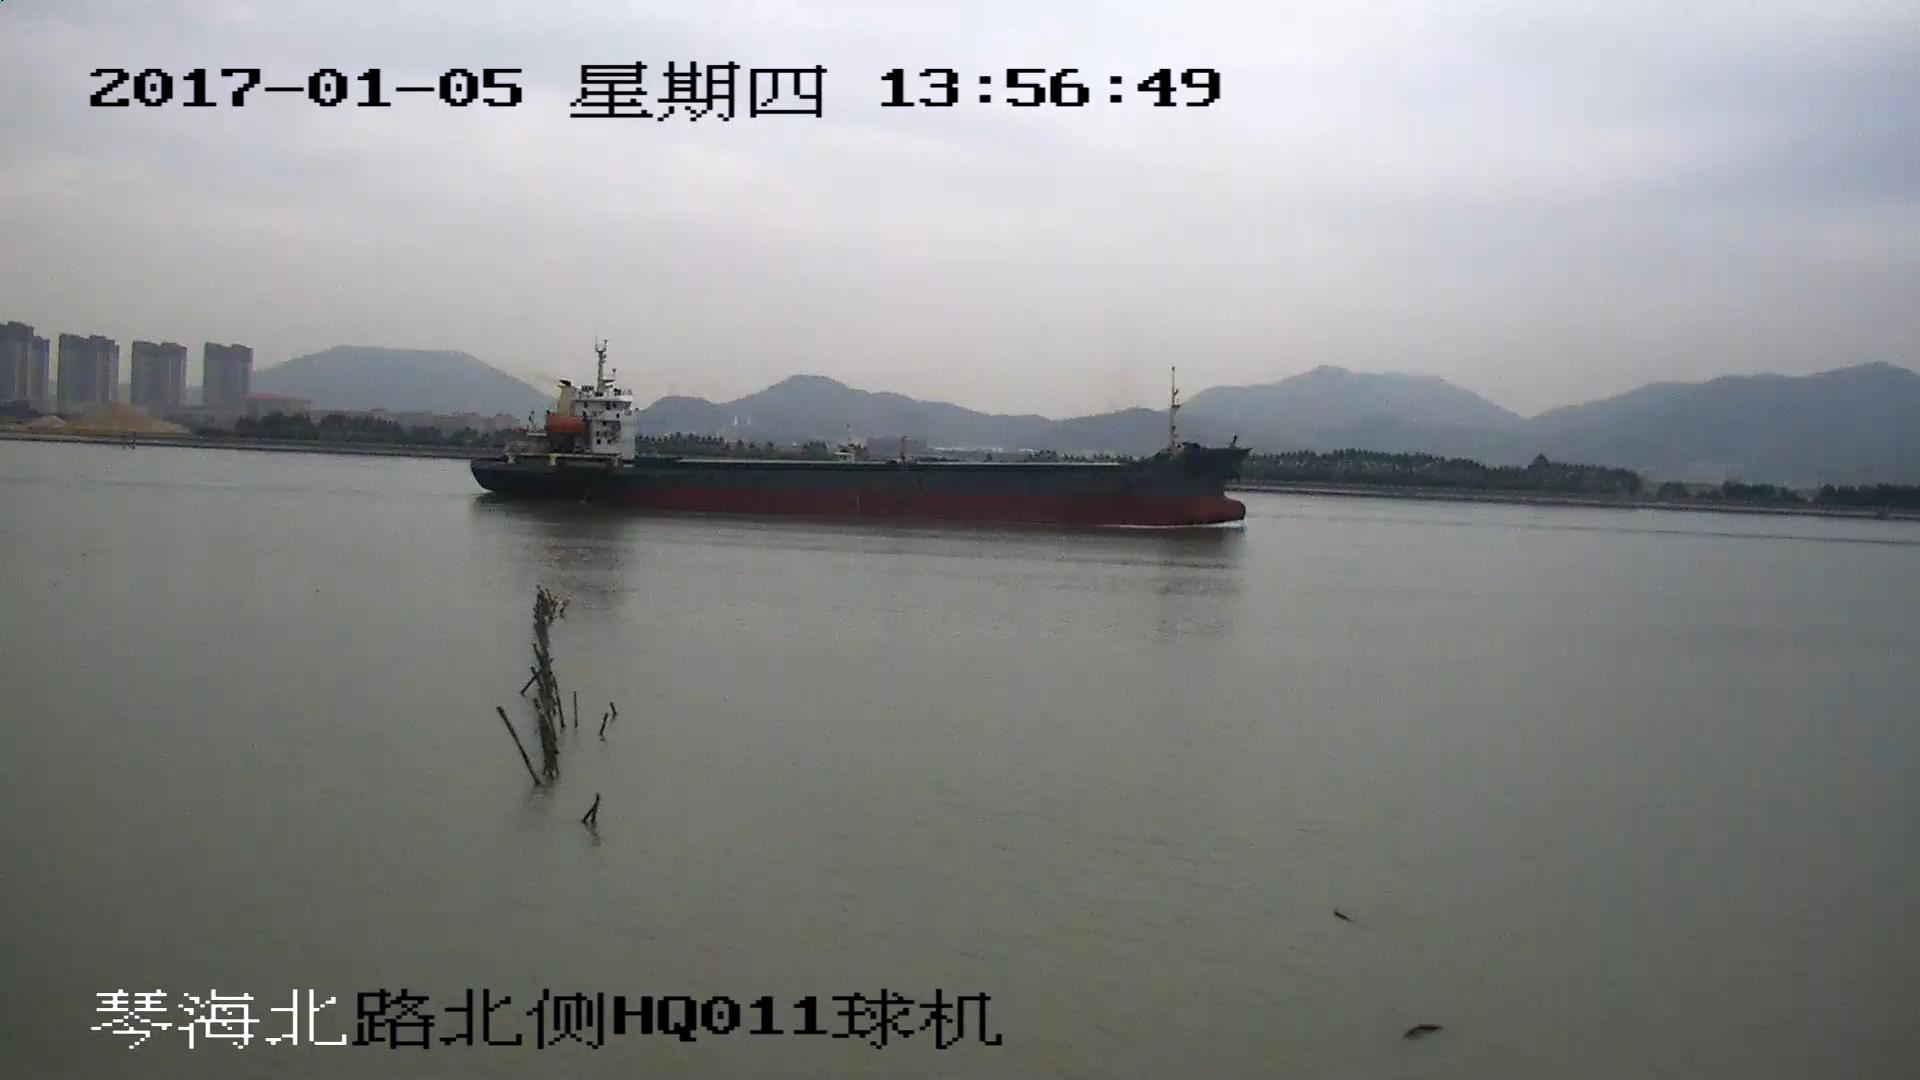general cargo ship: (465, 345, 1251, 530)
